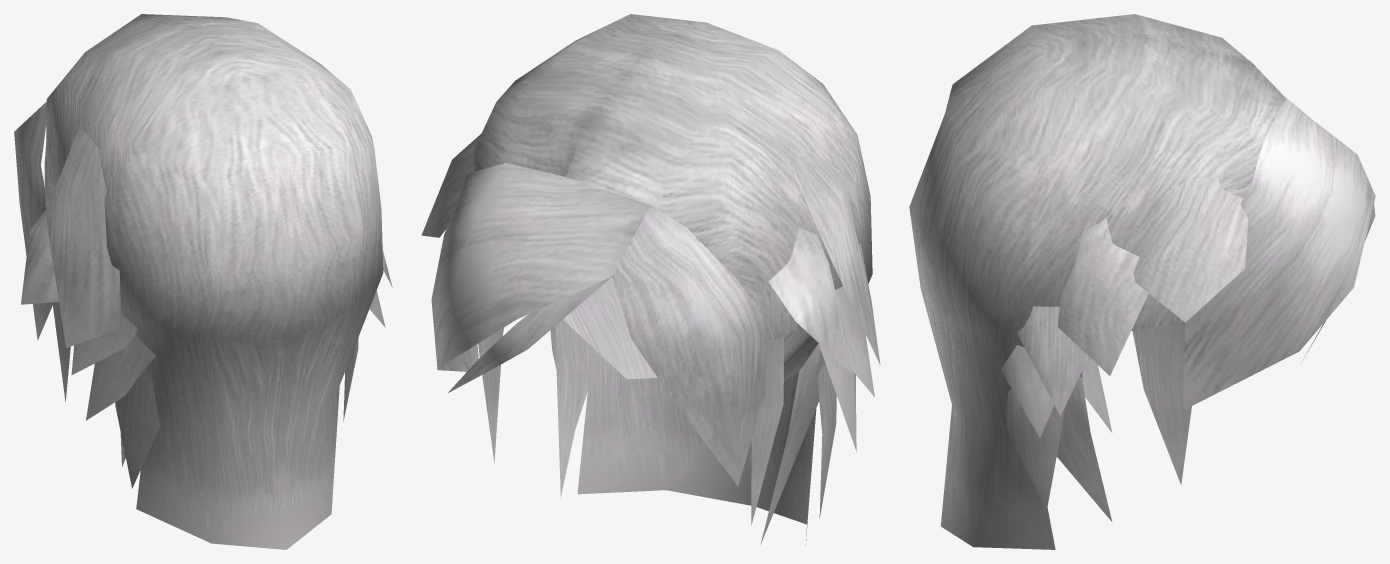
File: Wizard female hair 19.glb
3 renders of one model, left to right at view 1: azimuth 30°, elevation 25°; view 2: azimuth 150°, elevation 25°; view 3: azimuth 270°, elevation 25°, orthographic. The views are drawn at different scales.
Parts seen in each view (by area): view 1: Object03_0; view 2: Object03_0; view 3: Object03_0.
Part boxes in pixels (x1,y1,x2,y2): Object03_0: (14, 14, 392, 549); Object03_0: (421, 14, 880, 544); Object03_0: (909, 14, 1375, 549).
Size of the model in its own units: 0.1943 by 0.2454 by 0.2112.
Materials: 1 (1 with a texture image).
